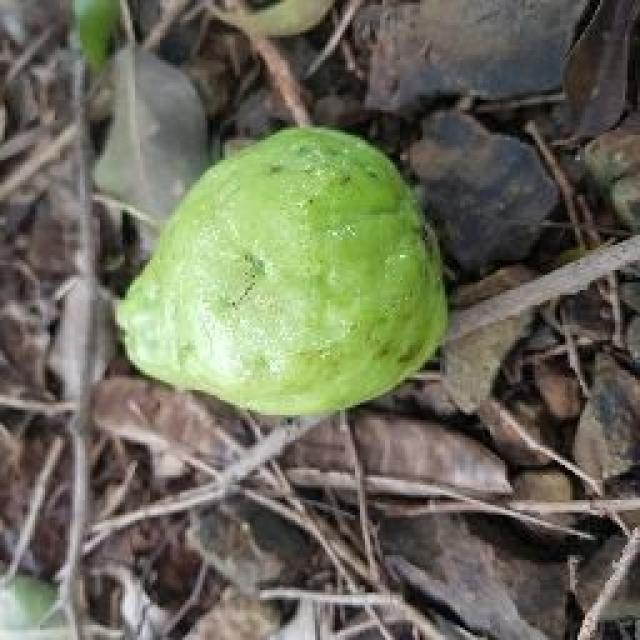Good_Guava: (112, 128, 450, 420)
